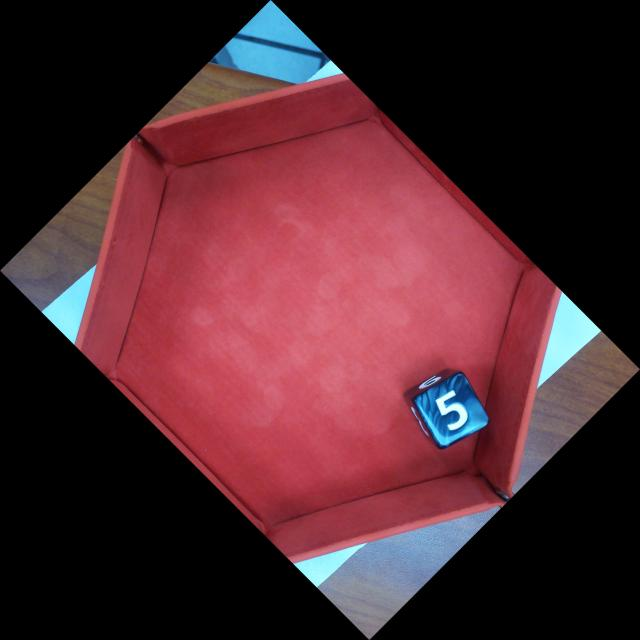dice: (411, 370, 491, 451)
